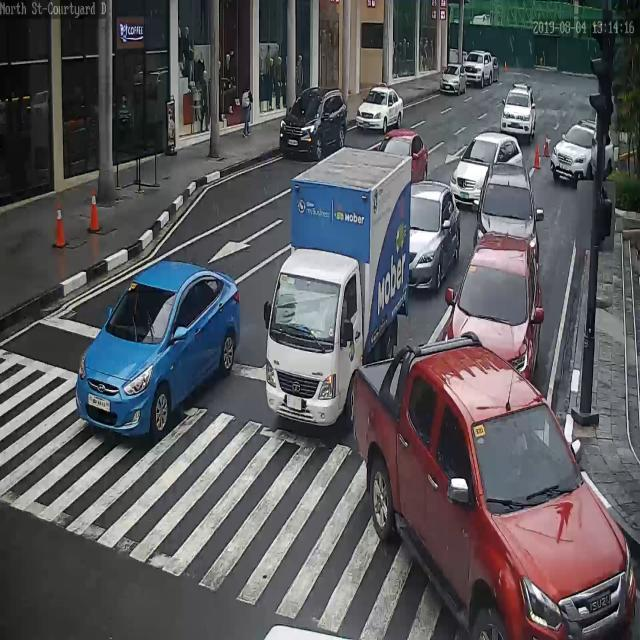car: (351, 334, 637, 640), (76, 261, 239, 440), (444, 232, 539, 385), (475, 163, 540, 267), (408, 180, 459, 292), (451, 131, 522, 205), (280, 85, 346, 160), (551, 121, 613, 183), (376, 129, 427, 176), (355, 85, 403, 132), (502, 85, 536, 137), (464, 49, 493, 86), (439, 63, 466, 95)
motorcycle: (265, 146, 411, 426)
